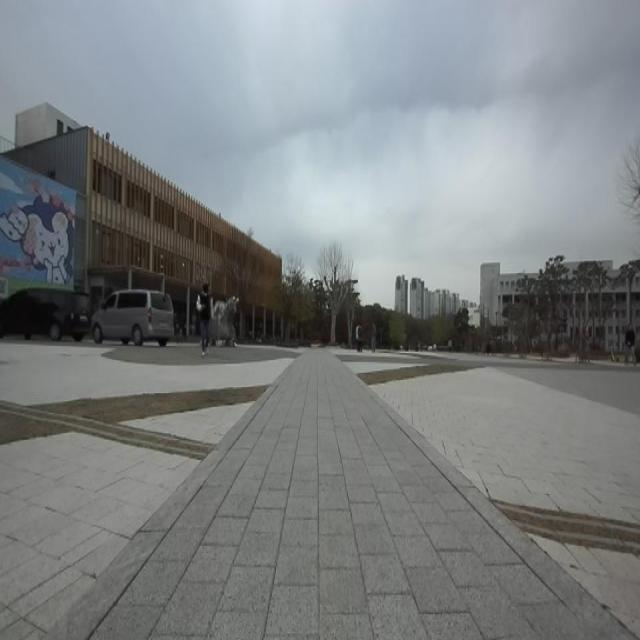sidewalk: (48, 352, 632, 639)
